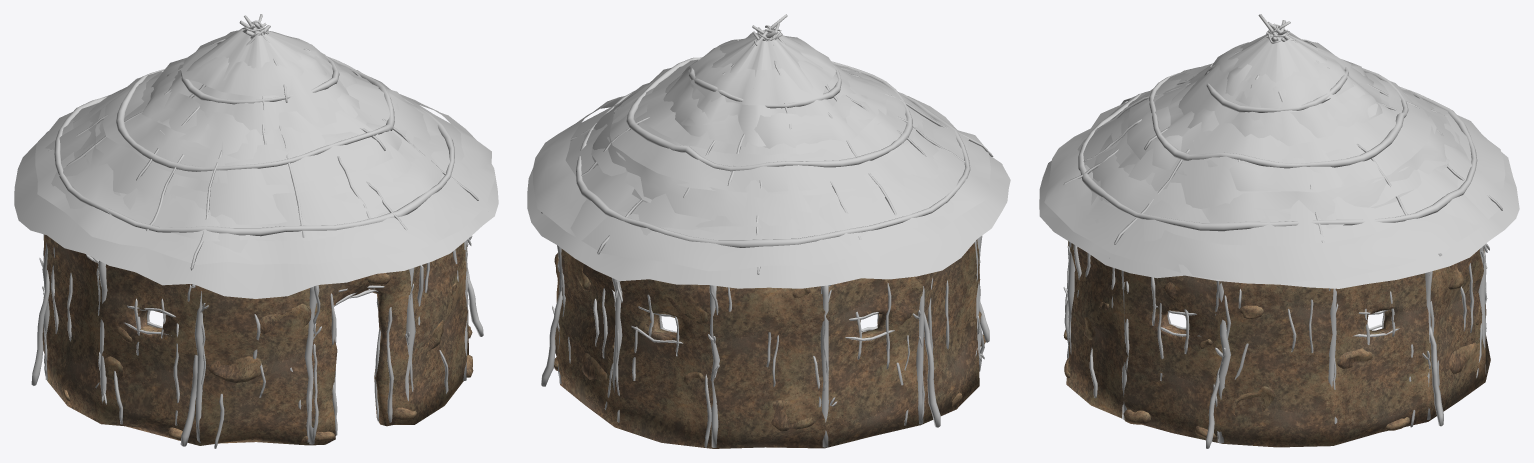
Rendered from midpoly_african_hut_001.obj.
3 views of the same model, side by side, from view 1: azimuth 30°, elevation 25°; view 2: azimuth 150°, elevation 25°; view 3: azimuth 270°, elevation 25° (orthographic).
Visible parts, largest first — view 1: midpoly_african_hut_001; view 2: midpoly_african_hut_001; view 3: midpoly_african_hut_001.
Part boxes in pixels (x1,y1,x2,y2): midpoly_african_hut_001: (14, 14, 498, 448); midpoly_african_hut_001: (527, 14, 1010, 448); midpoly_african_hut_001: (1039, 14, 1519, 448).
Bounding box in the file's own units: 4.55 × 3.6 × 4.57.
